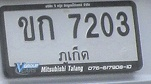txt01: (36, 14, 58, 42)
txt02: (17, 15, 36, 42)
